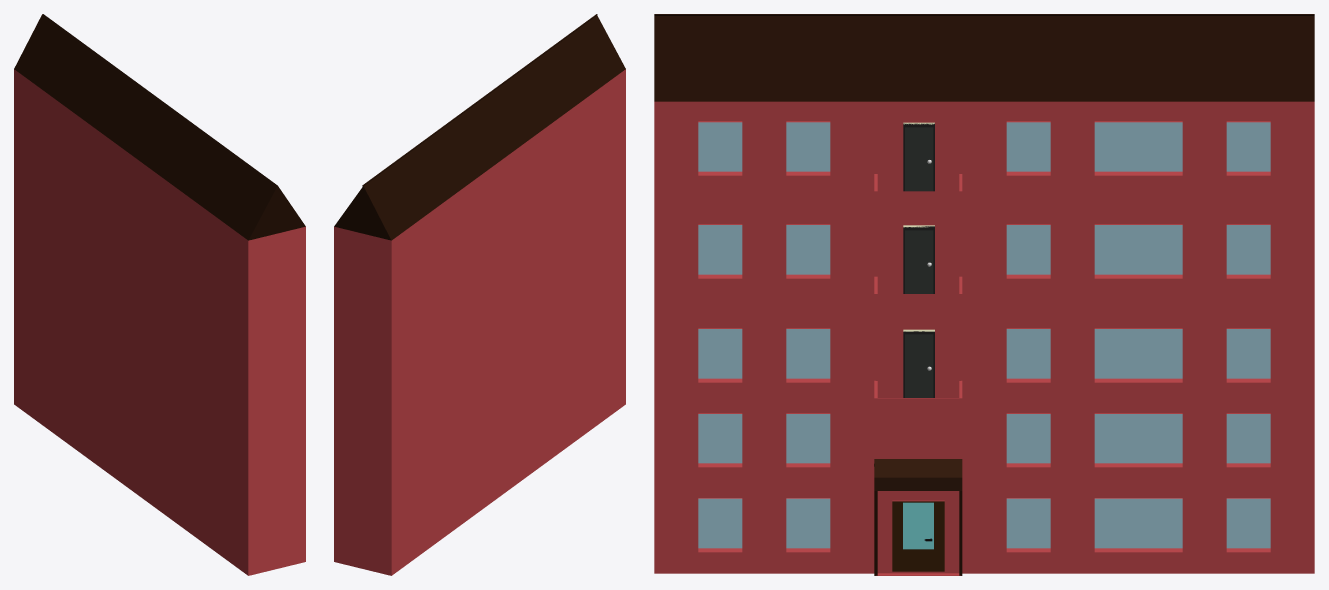
Rendered from dom3.fbx.
3 renders of one model, left to right at view 1: azimuth 30°, elevation 25°; view 2: azimuth 150°, elevation 25°; view 3: azimuth 270°, elevation 25°, orthographic. The views are drawn at different scales.
Parts seen in each view (by area): view 1: Cube; view 2: Cube; view 3: Cube, Cube.001.
Part boxes in pixels (x1,y1,x2,y2): Cube: [14, 14, 305, 575]; Cube: [334, 14, 625, 575]; Cube: [654, 14, 1314, 575]; Cube.001: [903, 122, 934, 397].
Bounding box in the file's own units: 289 × 1272 × 1411.
